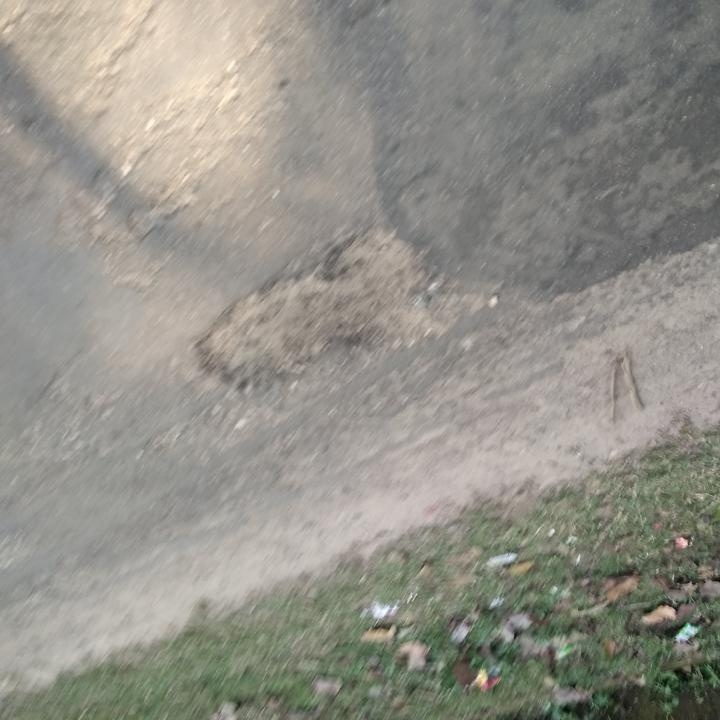pothole: (189, 228, 437, 395)
